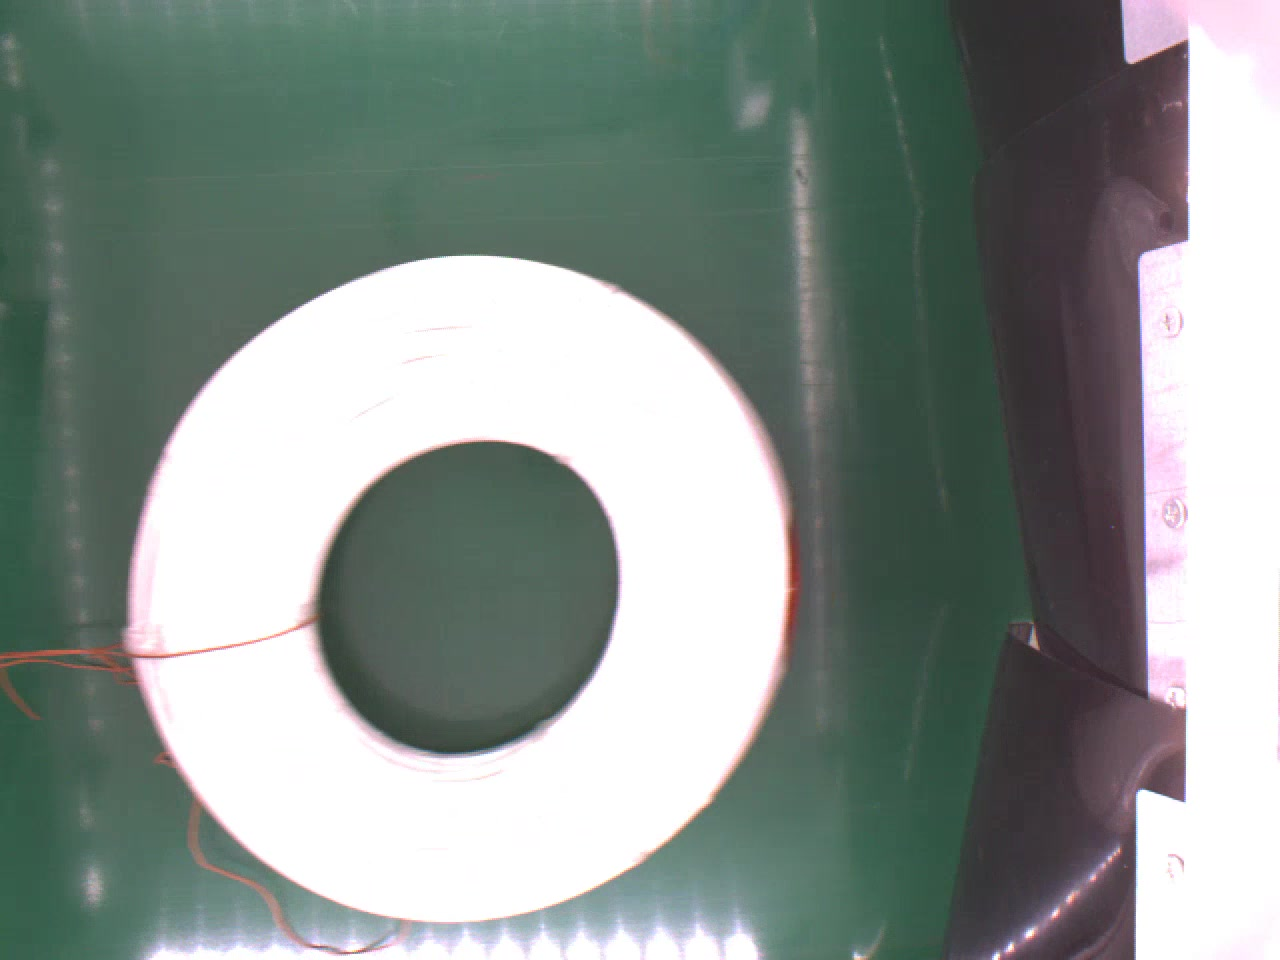white: (114, 250, 793, 921)
